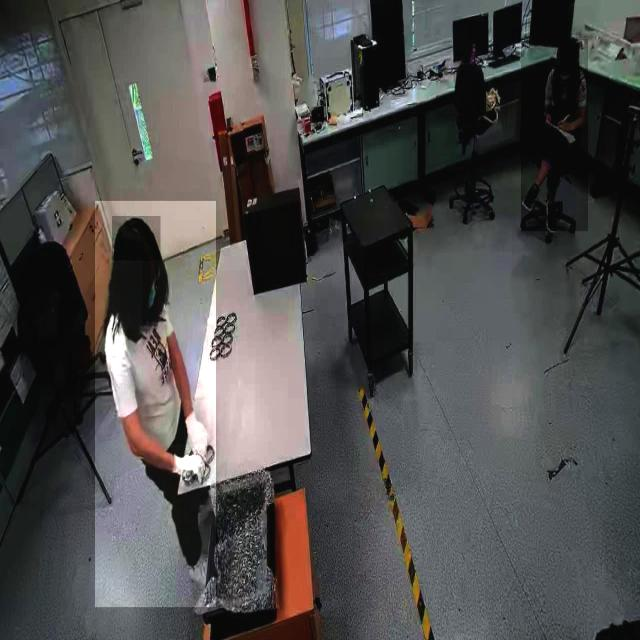face_mask: (142, 260, 158, 326), (558, 64, 574, 86)
hand_glove: (183, 400, 210, 459), (170, 444, 206, 478)
hand_noglove: (558, 116, 574, 132), (544, 109, 554, 131)
head_nohelmet: (111, 216, 160, 261), (556, 36, 580, 62)
person: (94, 201, 216, 608), (520, 39, 588, 232)
shoes: (544, 191, 564, 236), (520, 180, 542, 219)
